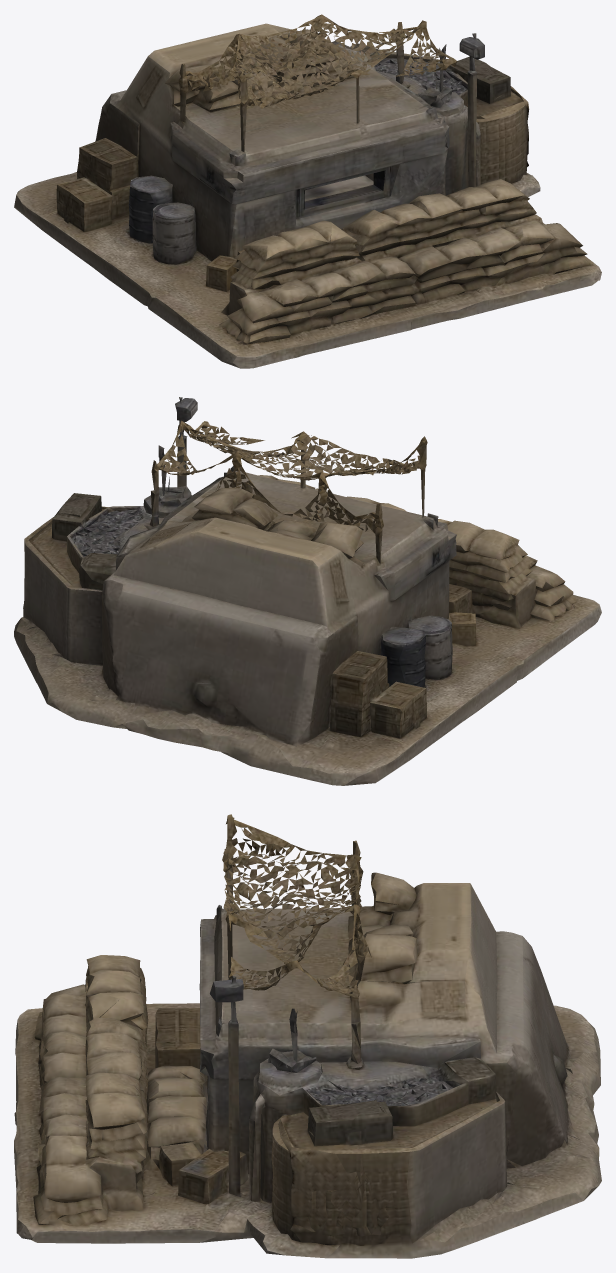
File: bunker_sandbag.glb
3 renders of one model, top to bottom at view 1: azimuth 30°, elevation 25°; view 2: azimuth 150°, elevation 25°; view 3: azimuth 270°, elevation 25°, orthographic. The views are drawn at different scales.
Visible parts, largest first — view 1: bunker_sandbag; view 2: bunker_sandbag; view 3: bunker_sandbag.
Part boxes in pixels (x1,y1,x2,y2): bunker_sandbag: [14, 14, 601, 368]; bunker_sandbag: [14, 397, 601, 785]; bunker_sandbag: [14, 814, 601, 1258].
Size of the model in its own units: 1.89 by 0.9288 by 1.89.
1 material, 1 textured.
